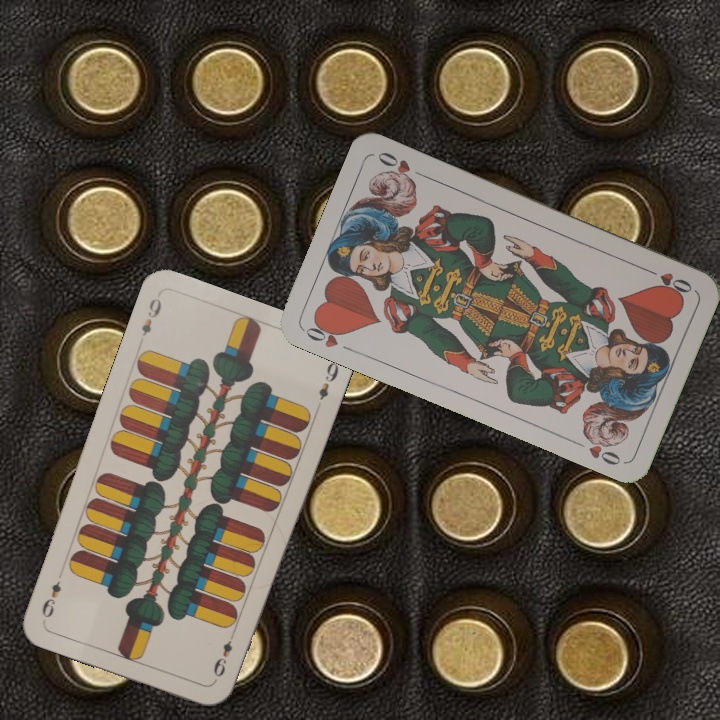E9: (137, 293, 165, 339), (209, 636, 235, 680)
HO: (301, 316, 356, 354), (640, 263, 695, 296)
